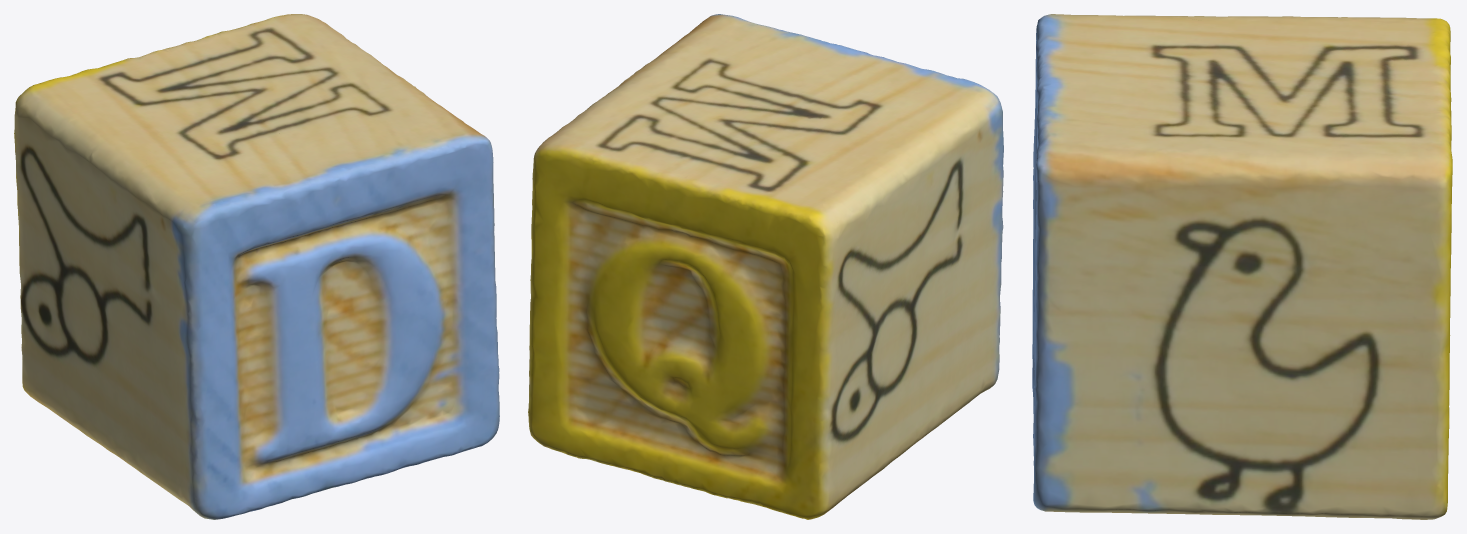
File: Granimals_20_Wooden_ABC_Blocks_Wagon_85VdSftGsLi.glb
3 renders of one model, left to right at view 1: azimuth 30°, elevation 25°; view 2: azimuth 150°, elevation 25°; view 3: azimuth 270°, elevation 25°, orthographic. The views are drawn at different scales.
Parts seen in each view (by area): view 1: Granimals_20_Wooden_ABC_Blocks_Wagon_85VdSftGsLi; view 2: Granimals_20_Wooden_ABC_Blocks_Wagon_85VdSftGsLi; view 3: Granimals_20_Wooden_ABC_Blocks_Wagon_85VdSftGsLi.
Boxes of the visible parts, x1=… form: Granimals_20_Wooden_ABC_Blocks_Wagon_85VdSftGsLi: x1=14, y1=14, x2=499, y2=519; Granimals_20_Wooden_ABC_Blocks_Wagon_85VdSftGsLi: x1=528, y1=14, x2=1003, y2=519; Granimals_20_Wooden_ABC_Blocks_Wagon_85VdSftGsLi: x1=1032, y1=14, x2=1452, y2=519.
Size of the model in its own units: 0.0306 by 0.0305 by 0.0312.
Materials: 1 (1 with a texture image).
